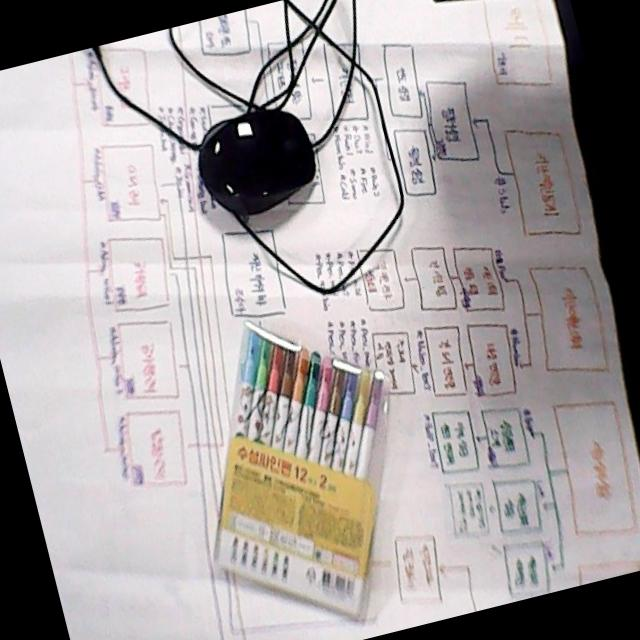mouse: (191, 103, 323, 228)
signpen: (208, 317, 398, 628)
